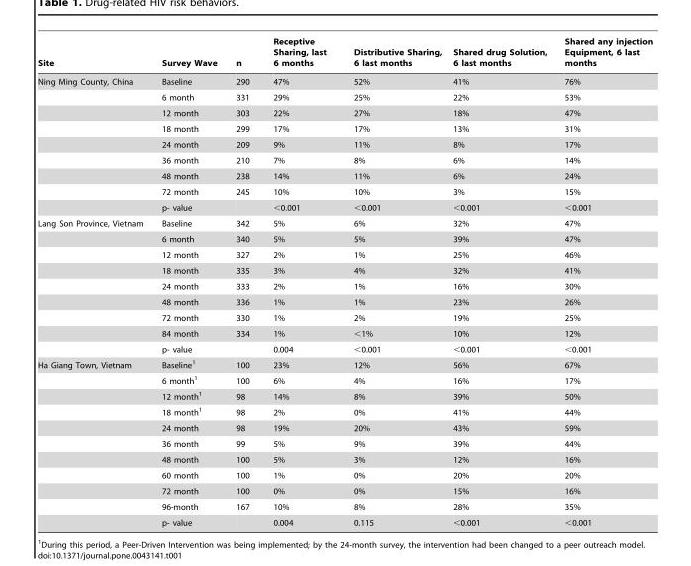table: (37, 36, 652, 526)
table column: (37, 36, 151, 526), (446, 36, 555, 526), (339, 36, 446, 526), (555, 36, 652, 526), (260, 36, 339, 526), (151, 36, 225, 526), (225, 36, 260, 526)
table column header: (37, 36, 652, 72)
table row: (37, 36, 652, 72), (37, 72, 652, 89), (37, 403, 652, 420), (37, 89, 652, 105), (37, 120, 652, 136), (37, 136, 652, 152), (37, 152, 652, 168), (37, 183, 652, 199), (37, 199, 652, 215), (37, 215, 652, 231), (37, 246, 652, 262), (37, 262, 652, 278), (37, 278, 652, 294), (37, 309, 652, 325), (37, 325, 652, 341), (37, 371, 652, 387), (37, 387, 652, 403), (37, 435, 652, 451), (37, 451, 652, 467), (37, 467, 652, 483), (37, 498, 652, 514), (37, 105, 652, 120), (37, 168, 652, 183), (37, 231, 652, 246), (37, 294, 652, 309), (37, 341, 652, 356), (37, 356, 652, 371), (37, 420, 652, 435), (37, 483, 652, 498), (37, 514, 652, 526)
table spanning cell: (37, 356, 151, 526), (37, 72, 151, 215), (37, 215, 151, 356)
